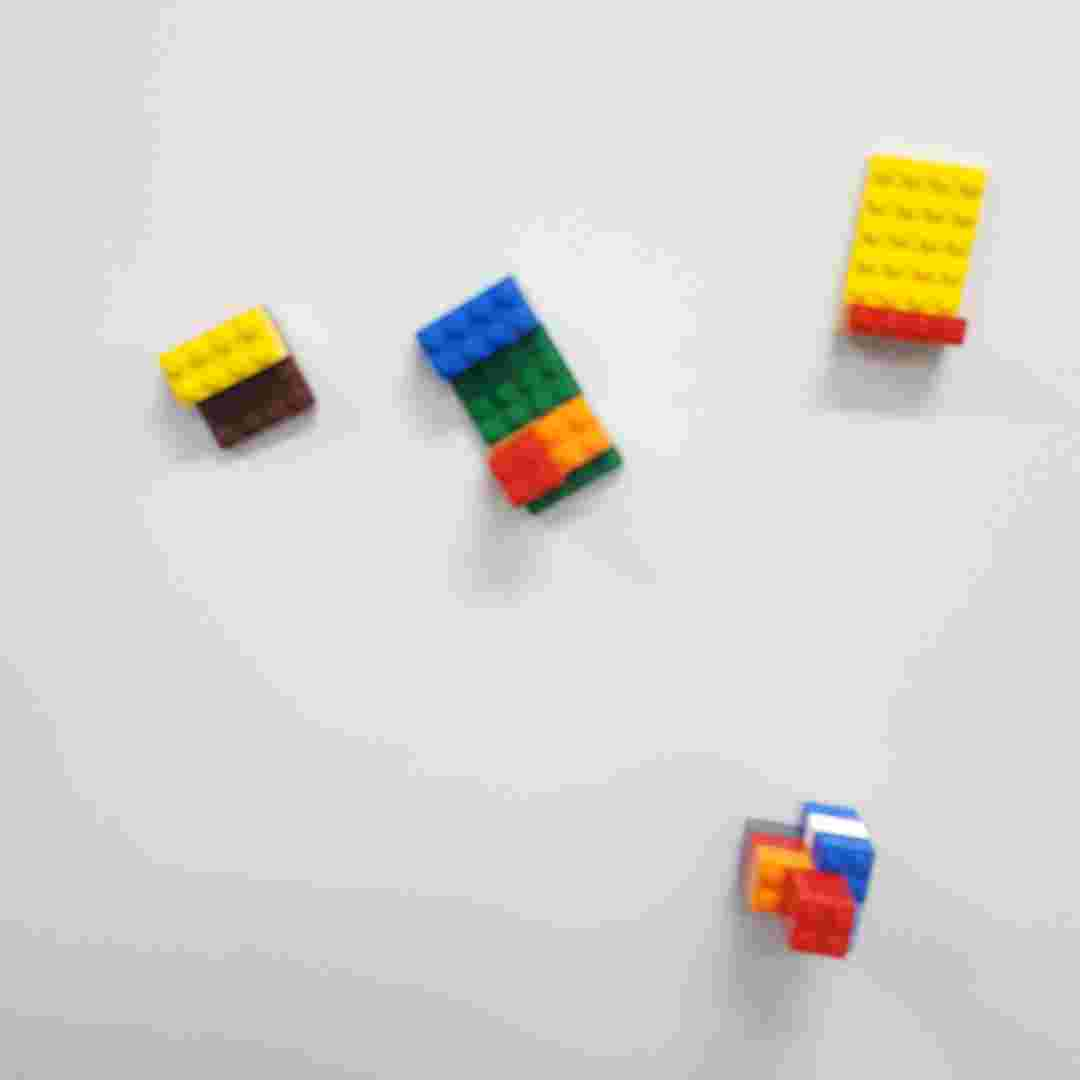LEGO: (415, 272, 623, 515), (835, 153, 991, 352), (154, 300, 323, 453), (734, 801, 877, 964)
